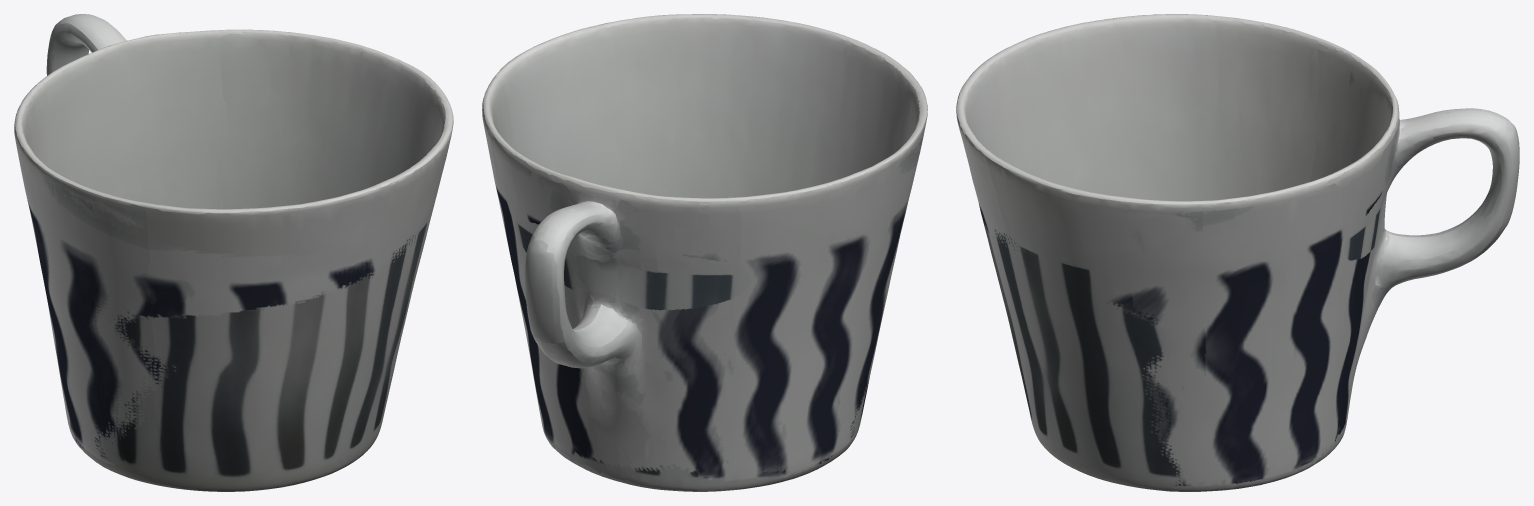
The picture shows the model from 3 angles, left to right: view 1: azimuth 30°, elevation 25°; view 2: azimuth 150°, elevation 25°; view 3: azimuth 270°, elevation 25°; orthographic projection. The views are drawn at different scales.
Parts seen in each view (by area): view 1: geometry_0; view 2: geometry_0; view 3: geometry_0.
Boxes of the visible parts, box(x1,y1,x2,y2) form: geometry_0: box(14, 14, 453, 491); geometry_0: box(482, 14, 927, 491); geometry_0: box(956, 14, 1519, 491).
Size of the model in its own units: 1.7 by 1.34 by 2.12.
1 material, 1 textured.
